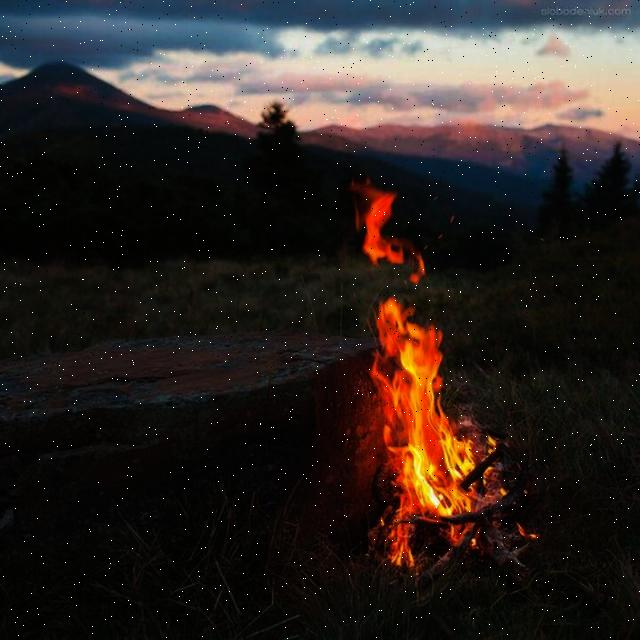fire: (365, 298, 490, 546), (344, 169, 437, 276)
